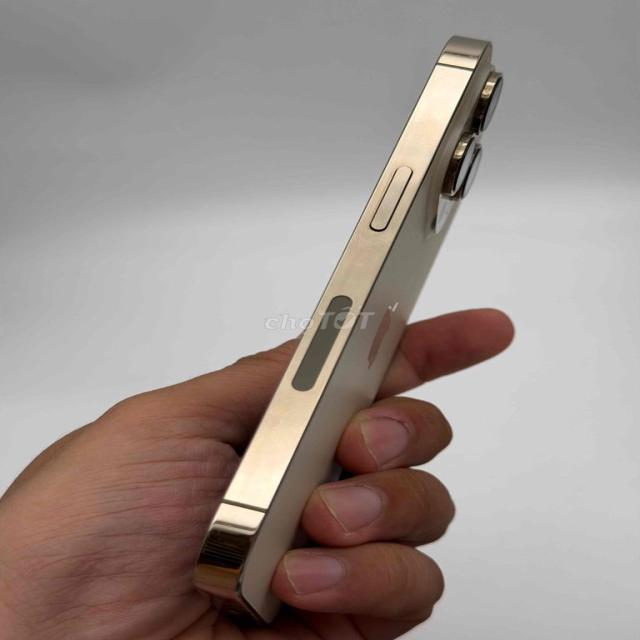gen_14: (193, 37, 501, 621)
